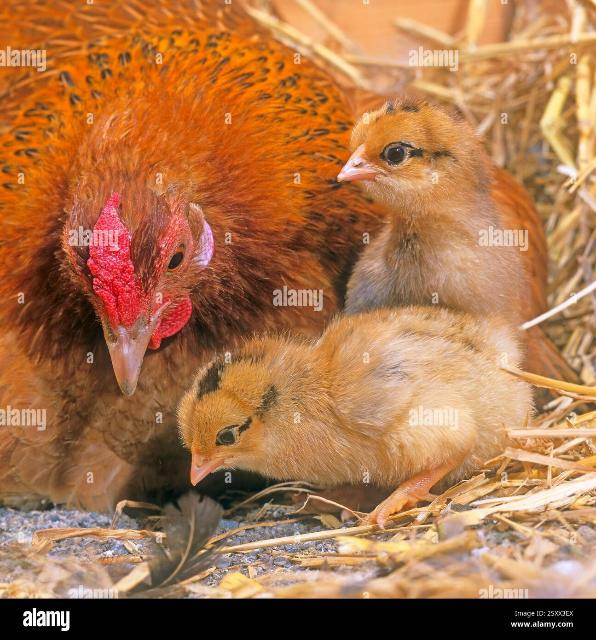Chicken: (0, 3, 394, 512)
